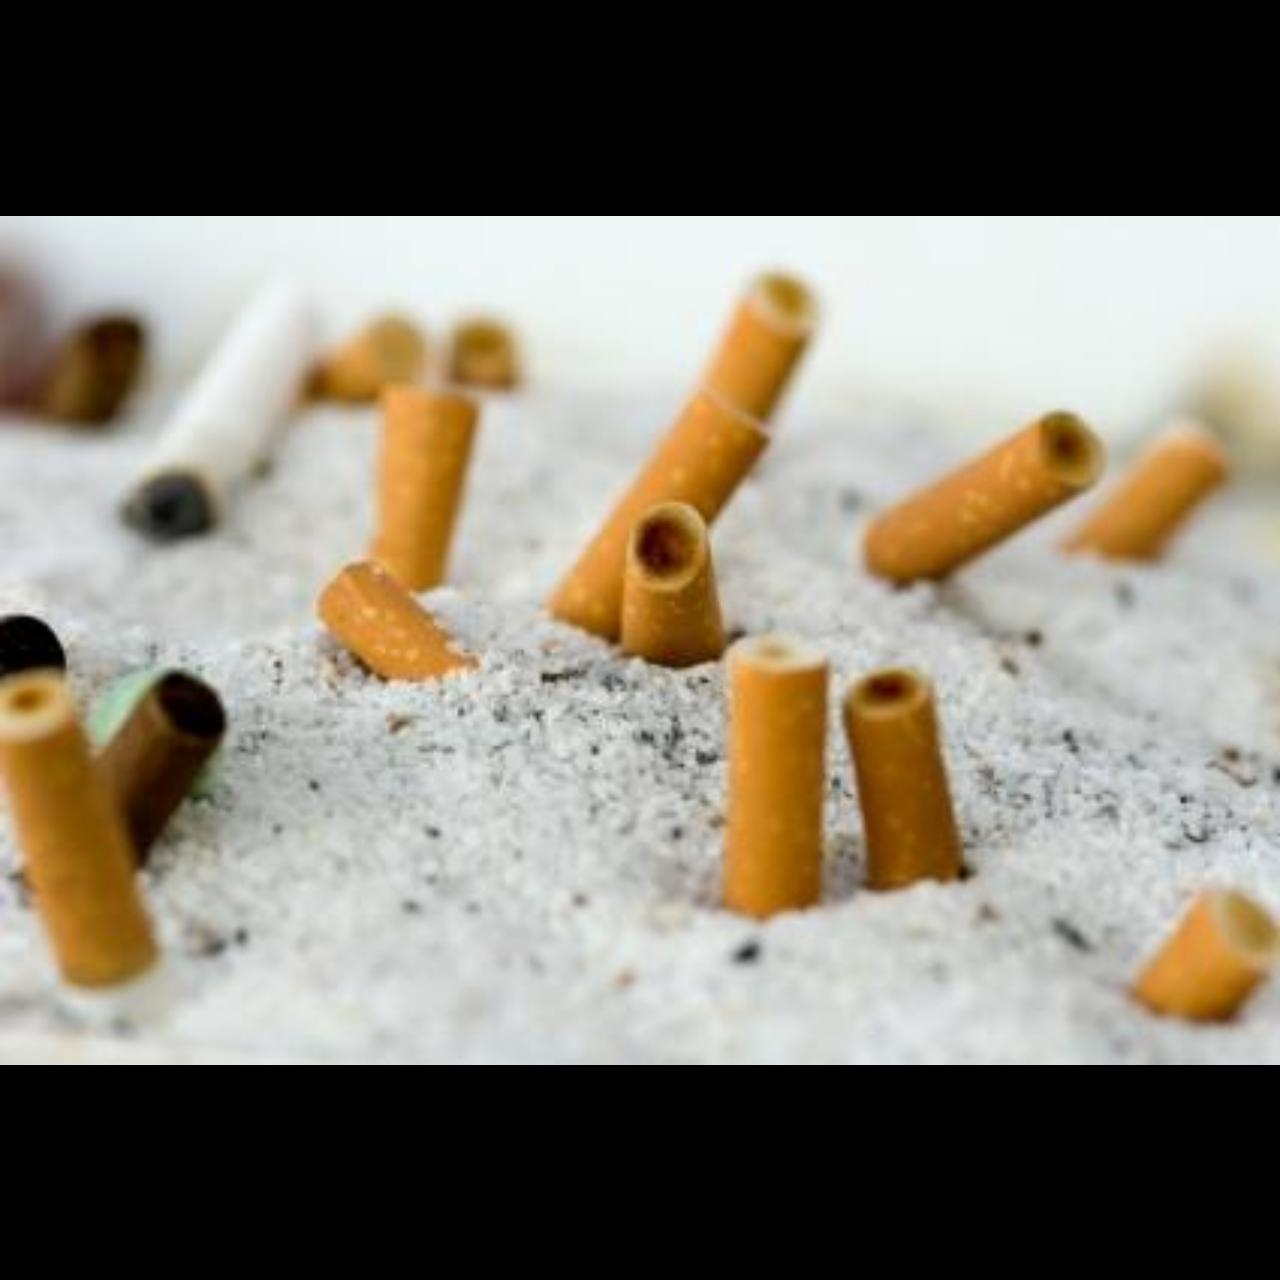cigarettes_butts: (548, 388, 773, 642), (115, 275, 312, 544), (0, 671, 158, 986), (860, 407, 1110, 591), (723, 634, 831, 923), (840, 661, 970, 896), (98, 669, 226, 879), (369, 385, 478, 590), (1066, 429, 1232, 558), (316, 559, 482, 682), (1132, 890, 1277, 1020), (622, 501, 726, 667), (708, 272, 816, 420), (36, 311, 142, 423), (313, 316, 424, 401), (455, 317, 518, 384)
